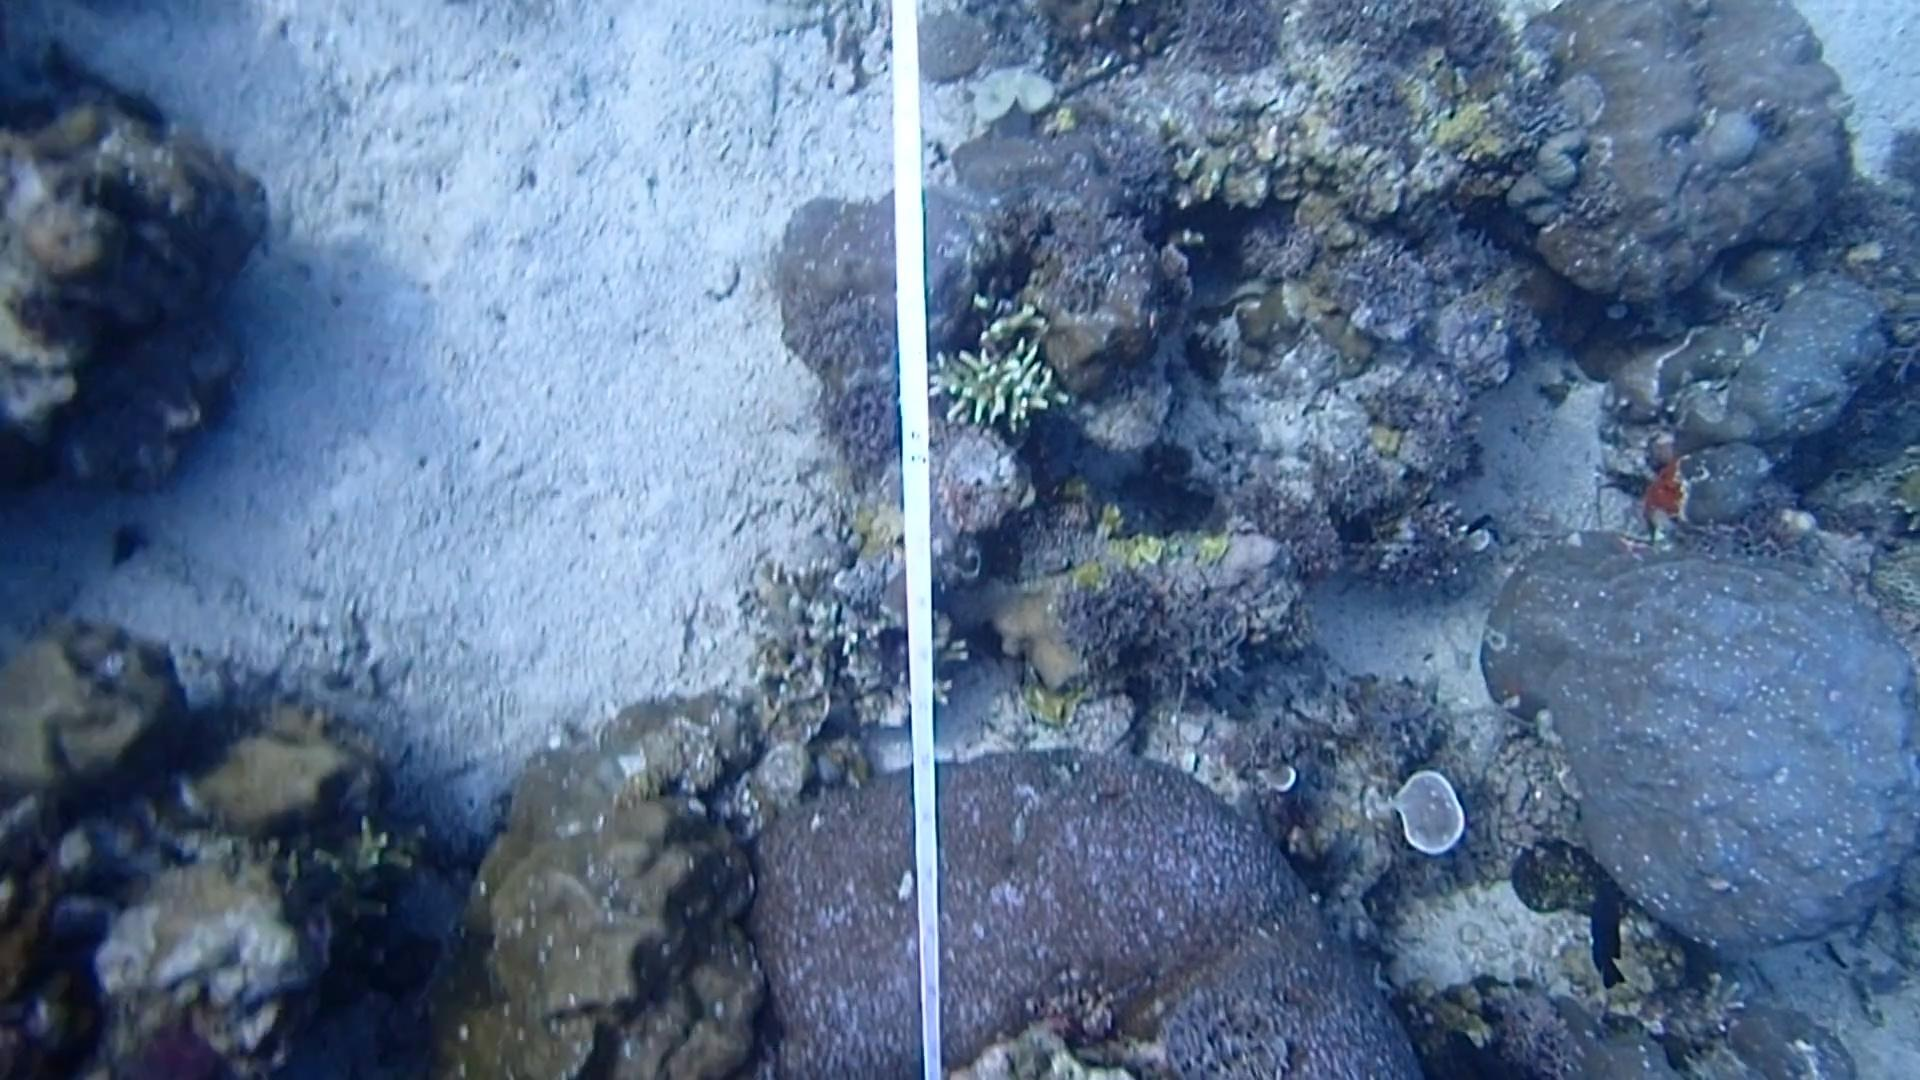Dark Fish: (1572, 872, 1644, 994)
